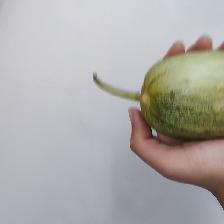gua: (132, 57, 220, 131)
